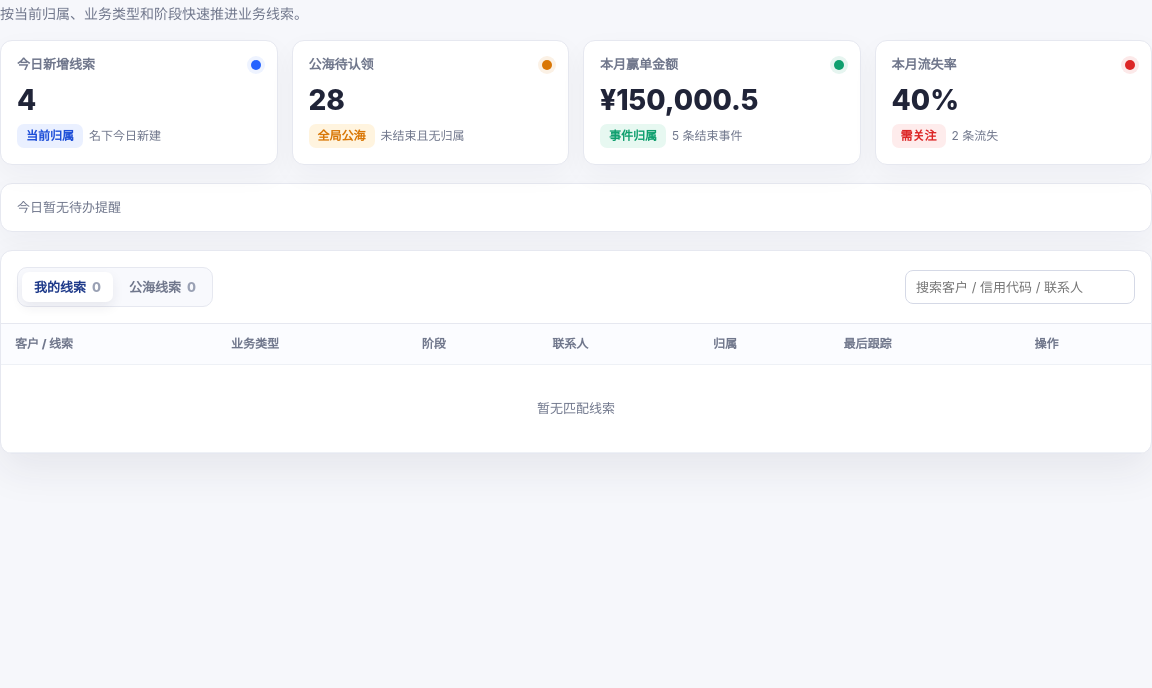
Test case: SALES 公海抽屉脱敏只读（refine pool drawer） › SALES 公海抽屉提供认领入口且不呈现写入口
Click the button with class "tab" showing "公海线索 0": click(162, 287) [117,272,208,302]
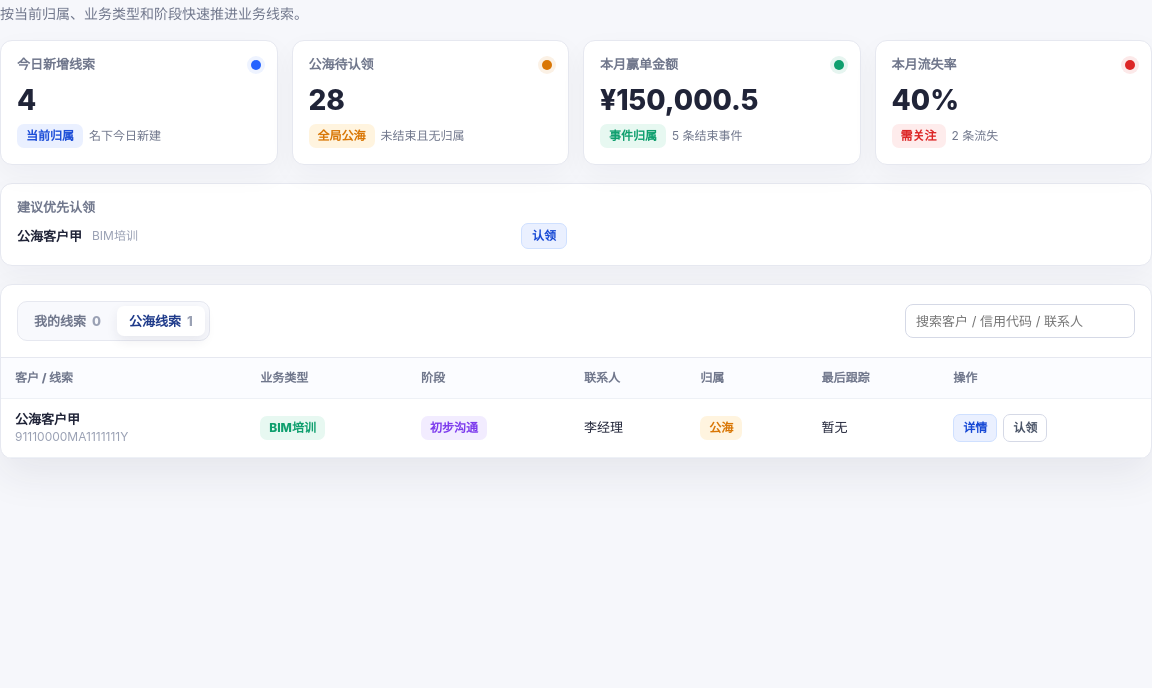
Click the button with class "lead-link": click(72, 428) [15,412,128,444]
(page scrolled)
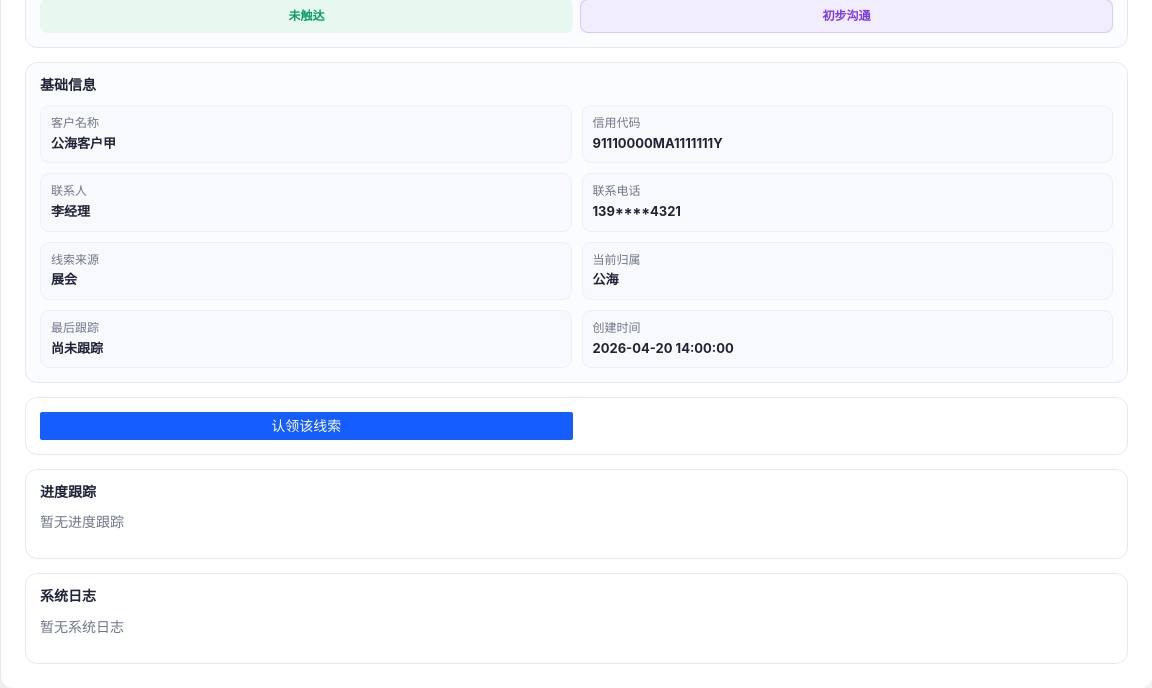
Expected: the button with test id "drawer-claim" is shown, [40,412,572,440]
